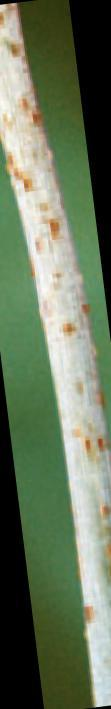Wheat: (0, 4, 92, 342), (62, 400, 111, 682)
